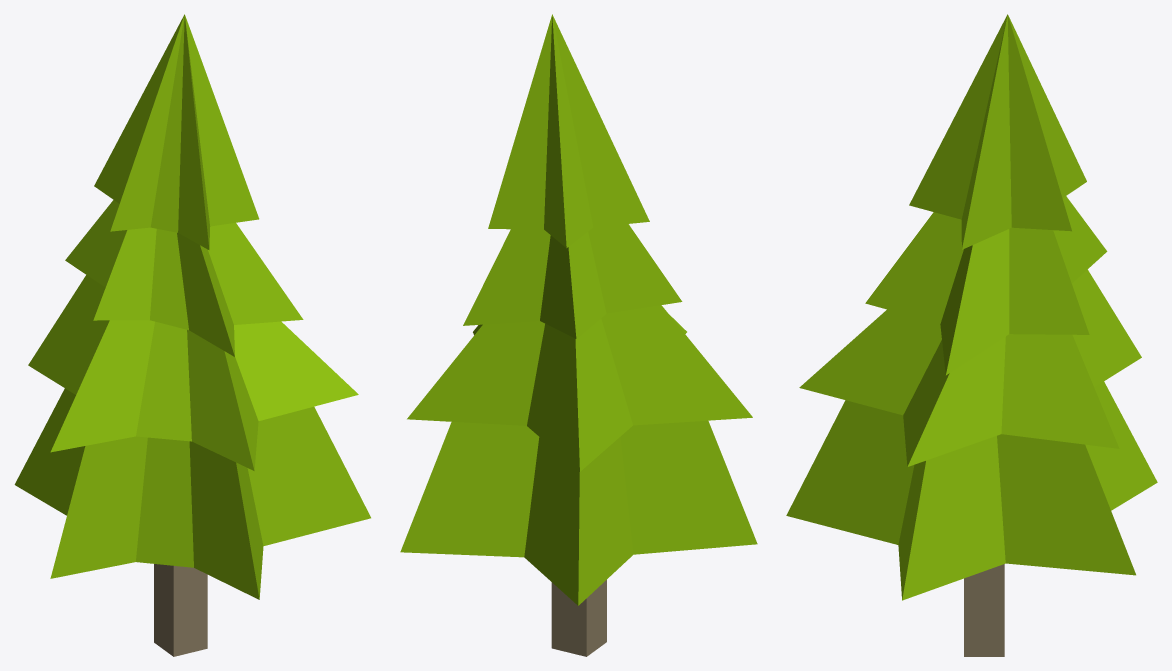
Rendered from tree_pine_star_skewed_4.fbx.
3 renders of one model, left to right at view 1: azimuth 30°, elevation 25°; view 2: azimuth 150°, elevation 25°; view 3: azimuth 270°, elevation 25°, orthographic. The views are drawn at different scales.
Visible parts, largest first — view 1: tree_pine_star_skewed_4; view 2: tree_pine_star_skewed_4; view 3: tree_pine_star_skewed_4.
Part boxes in pixels (bbox=[...]): tree_pine_star_skewed_4: bbox=[14, 14, 370, 656]; tree_pine_star_skewed_4: bbox=[400, 14, 757, 656]; tree_pine_star_skewed_4: bbox=[786, 14, 1157, 656].
Bounding box in the file's own units: 109 × 214 × 112.
